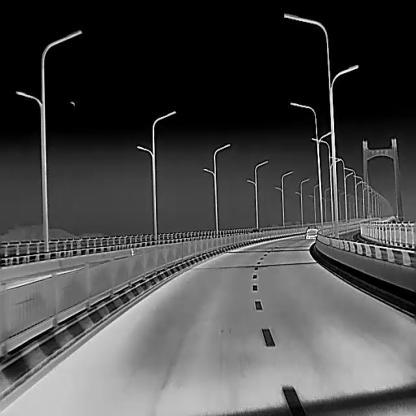car: (305, 224, 318, 238)
